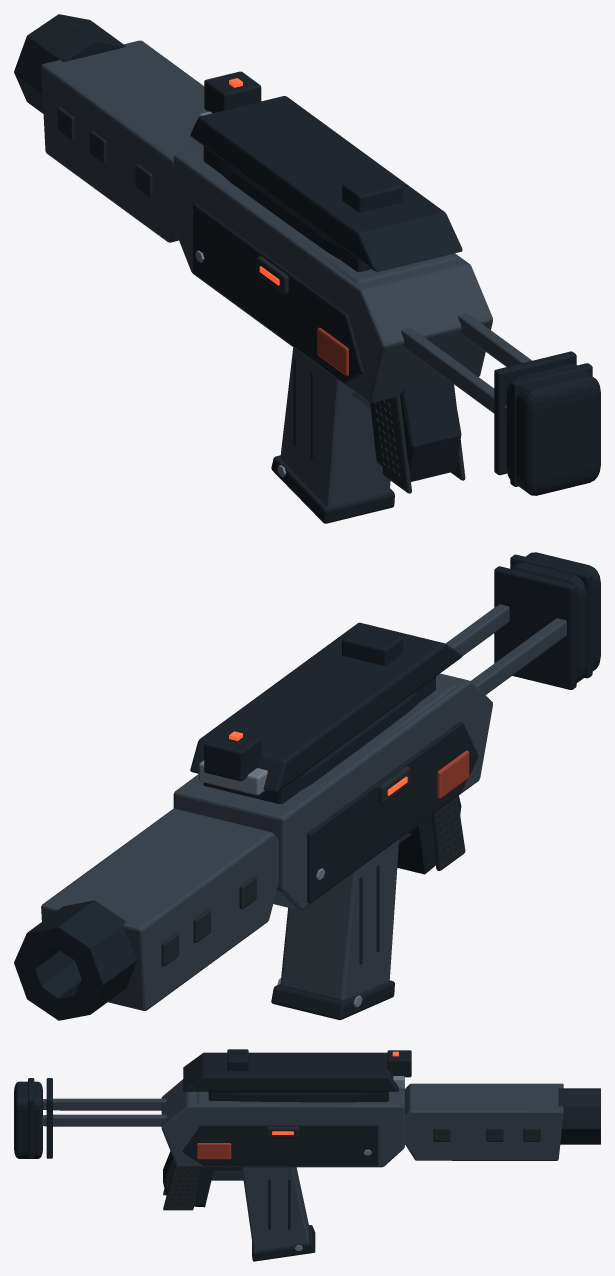
Rendered from smg.glb.
The picture shows the model from 3 angles, top to bottom: view 1: azimuth 30°, elevation 25°; view 2: azimuth 150°, elevation 25°; view 3: azimuth 270°, elevation 25°; orthographic projection. The views are drawn at different scales.
Visible parts, largest first — view 1: smg; view 2: smg; view 3: smg.
Boxes of the visible parts, x1=… form: smg: x1=14, y1=14, x2=600, y2=523; smg: x1=14, y1=552, x2=600, y2=1020; smg: x1=14, y1=1049, x2=600, y2=1261.
Bounding box in the file's own units: 0.2024 × 0.5147 × 1.37.
